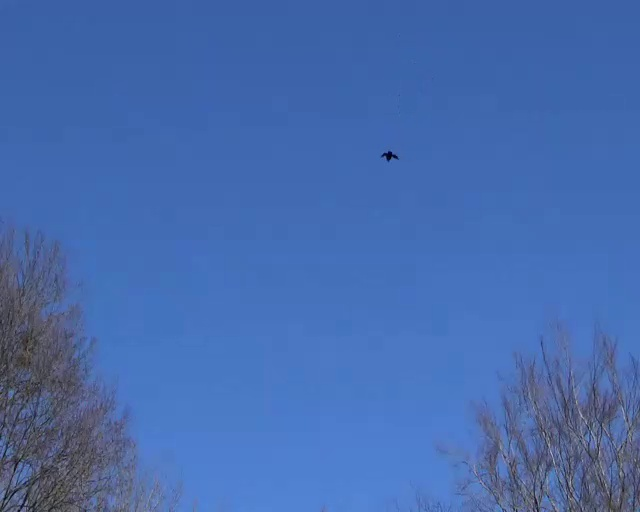BIRD: (380, 149, 400, 162)
